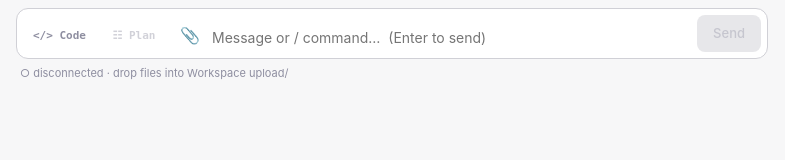
Test: providerReady gating › defaults to true when not passed
Note: 不传 providerReady 时默认 true——canSend 不被 providerReady 阻止
In the text box with test id "chat-input-field": (452, 37) x1=212 y1=23 x2=691 y2=52, type "hello"
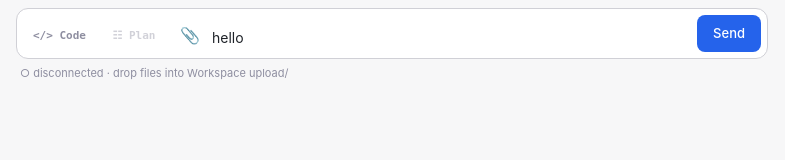
Result: the button with test id "send-button" is enabled at x1=697 y1=15 x2=761 y2=52
